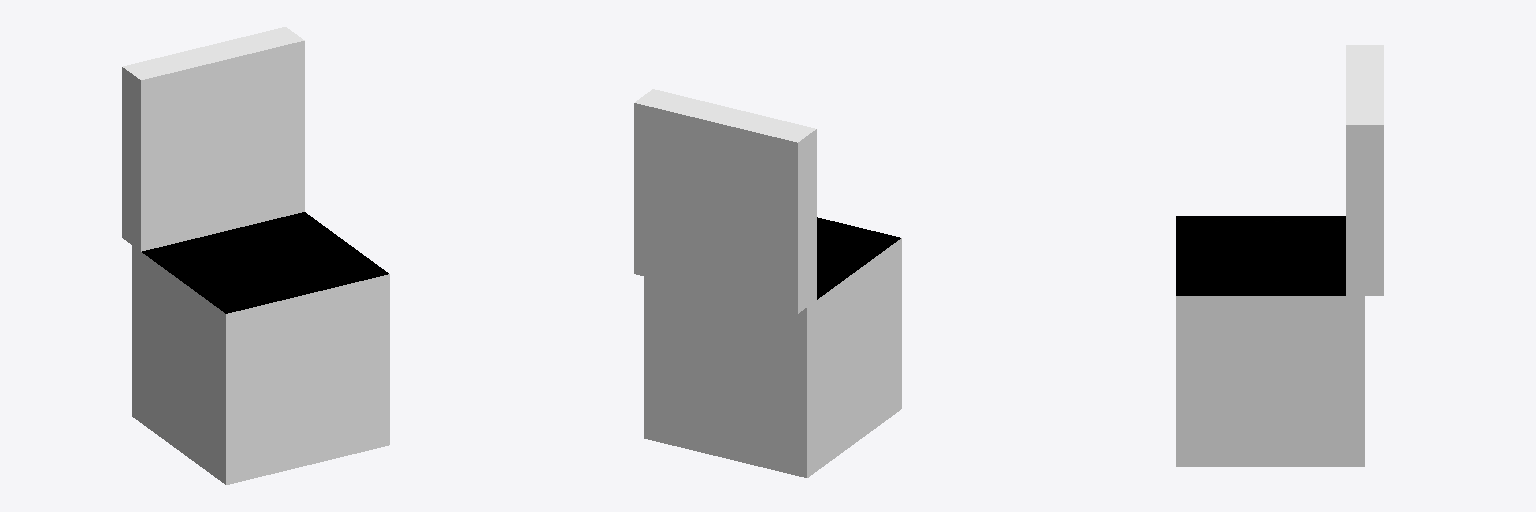
The picture shows the model from 3 angles: view 1: azimuth 30°, elevation 25°; view 2: azimuth 150°, elevation 25°; view 3: azimuth 270°, elevation 25°; orthographic projection.
Visible parts, largest first — view 1: Cube_Cube.001, Cube.001_Cube.002; view 2: Cube_Cube.001, Cube.001_Cube.002; view 3: Cube_Cube.001, Cube.001_Cube.002.
Boxes of the visible parts, x1=… form: Cube_Cube.001: x1=132, y1=212, x2=389, y2=484; Cube.001_Cube.002: x1=122, y1=27, x2=304, y2=251; Cube_Cube.001: x1=644, y1=217, x2=901, y2=477; Cube.001_Cube.002: x1=634, y1=89, x2=816, y2=313; Cube_Cube.001: x1=1176, y1=216, x2=1364, y2=466; Cube.001_Cube.002: x1=1346, y1=45, x2=1383, y2=295.
Size of the model in its own units: 2 by 4 by 2.2.
2 materials, 1 textured.